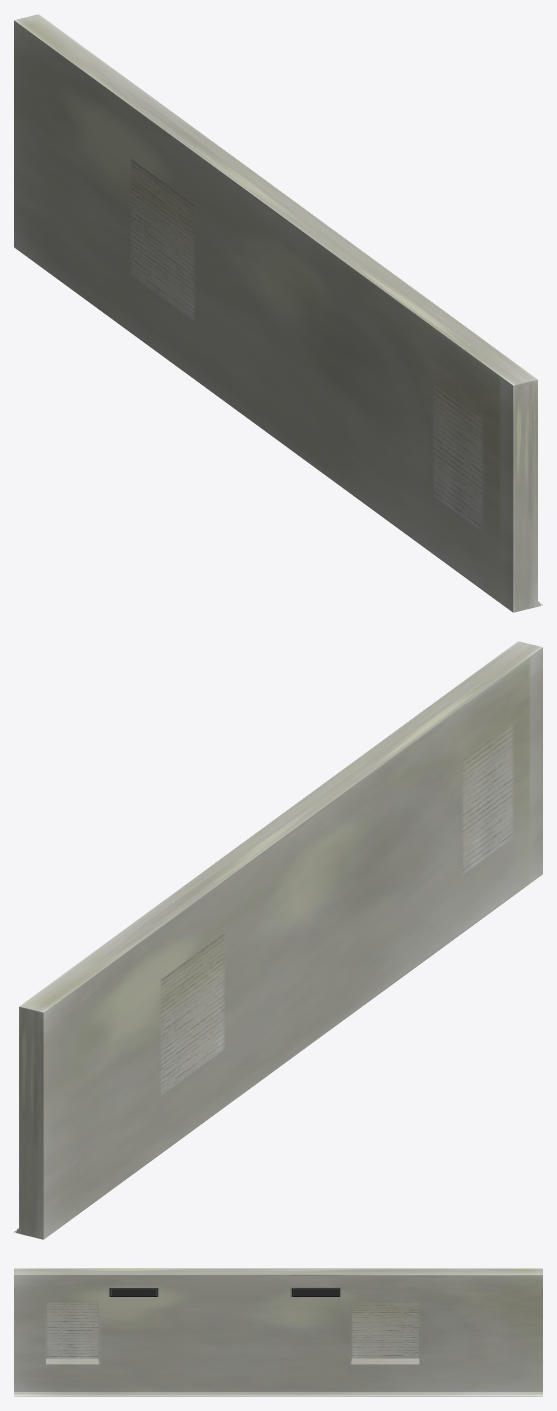
Rendered from SouthWall.fbx.
3 renders of one model, top to bottom at view 1: azimuth 30°, elevation 25°; view 2: azimuth 150°, elevation 25°; view 3: azimuth 270°, elevation 25°, orthographic. The views are drawn at different scales.
Parts seen in each view (by area): view 1: Export Wall 2; view 2: Export Wall 2; view 3: Export Wall 2.
Boxes of the visible parts, x1,y1,x2,y2 form: Export Wall 2: (14, 14, 542, 612); Export Wall 2: (14, 641, 542, 1239); Export Wall 2: (14, 1268, 542, 1396).
Bounding box in the file's own units: 48.16 × 351 × 1400.
